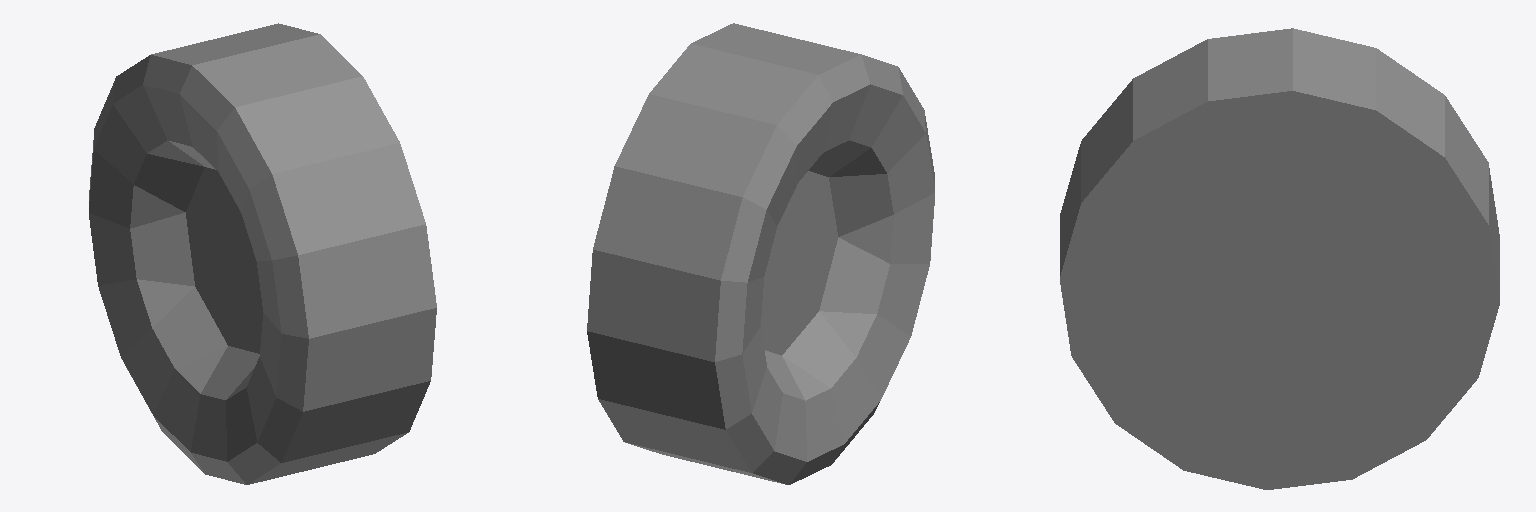
The model's file is mop.obj.
3 renders of one model, left to right at view 1: azimuth 30°, elevation 25°; view 2: azimuth 150°, elevation 25°; view 3: azimuth 270°, elevation 25°, orthographic.
Parts seen in each view (by area): view 1: wheel_04; view 2: wheel_04; view 3: wheel_04.
Boxes of the visible parts, x1=… form: wheel_04: x1=89, y1=23, x2=436, y2=484; wheel_04: x1=587, y1=23, x2=934, y2=484; wheel_04: x1=1060, y1=28, x2=1499, y2=489.
Bounding box in the file's own units: 295 × 795 × 795.